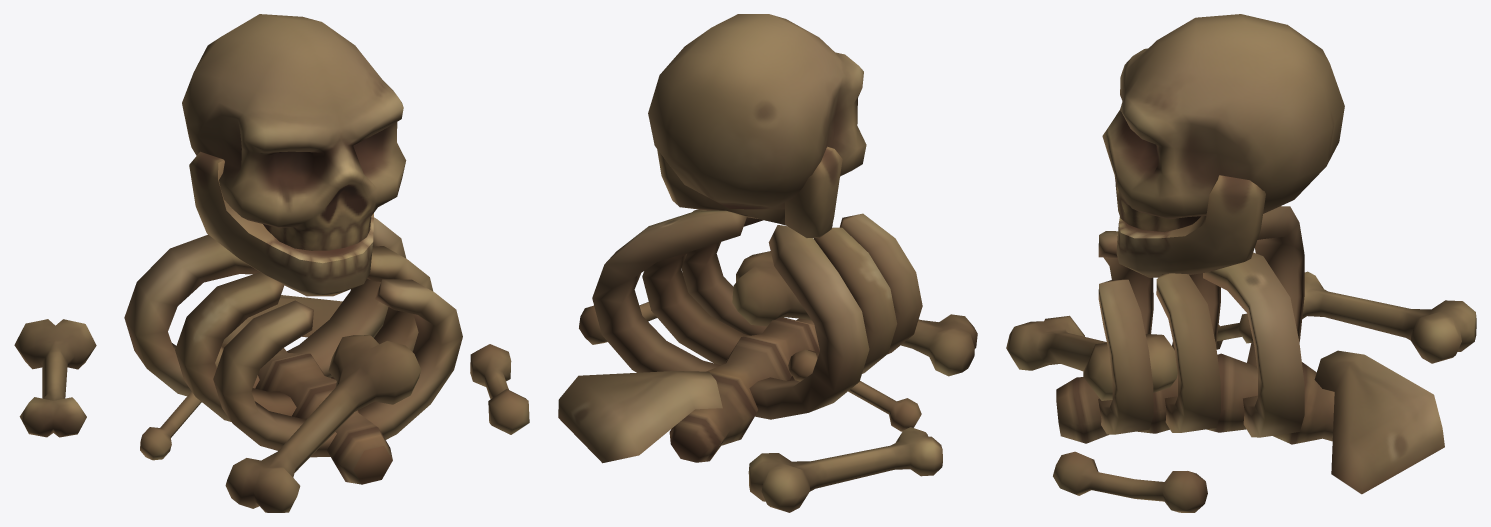
Rendered from skeleton_pile.fbx.
3 renders of one model, left to right at view 1: azimuth 30°, elevation 25°; view 2: azimuth 150°, elevation 25°; view 3: azimuth 270°, elevation 25°, orthographic. The views are drawn at different scales.
Visible parts, largest first — view 1: skeleton_pile; view 2: skeleton_pile; view 3: skeleton_pile.
Boxes of the visible parts, <box> form: skeleton_pile: <box>14,14,529,512</box>; skeleton_pile: <box>558,14,977,512</box>; skeleton_pile: <box>1006,14,1476,512</box>.
Bounding box in the file's own units: 67.03 × 60.64 × 62.
